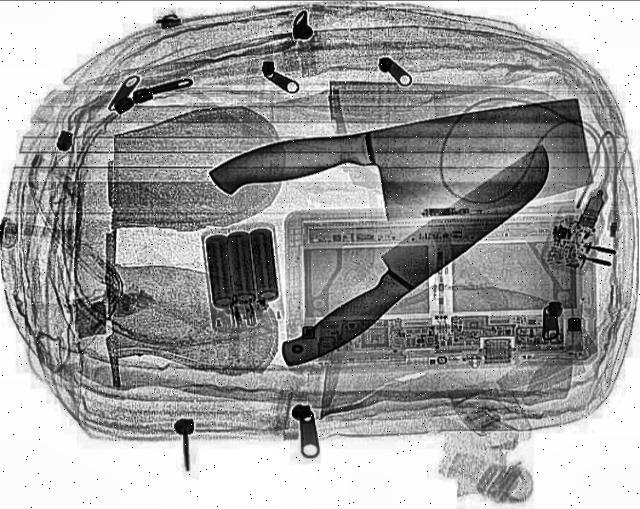Knife: (268, 136, 576, 382), (202, 95, 608, 249)
